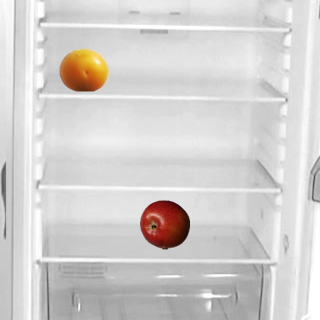Apple Braeburn: (139, 199, 189, 249)
Cherry Wax Yellow: (58, 44, 108, 94)
